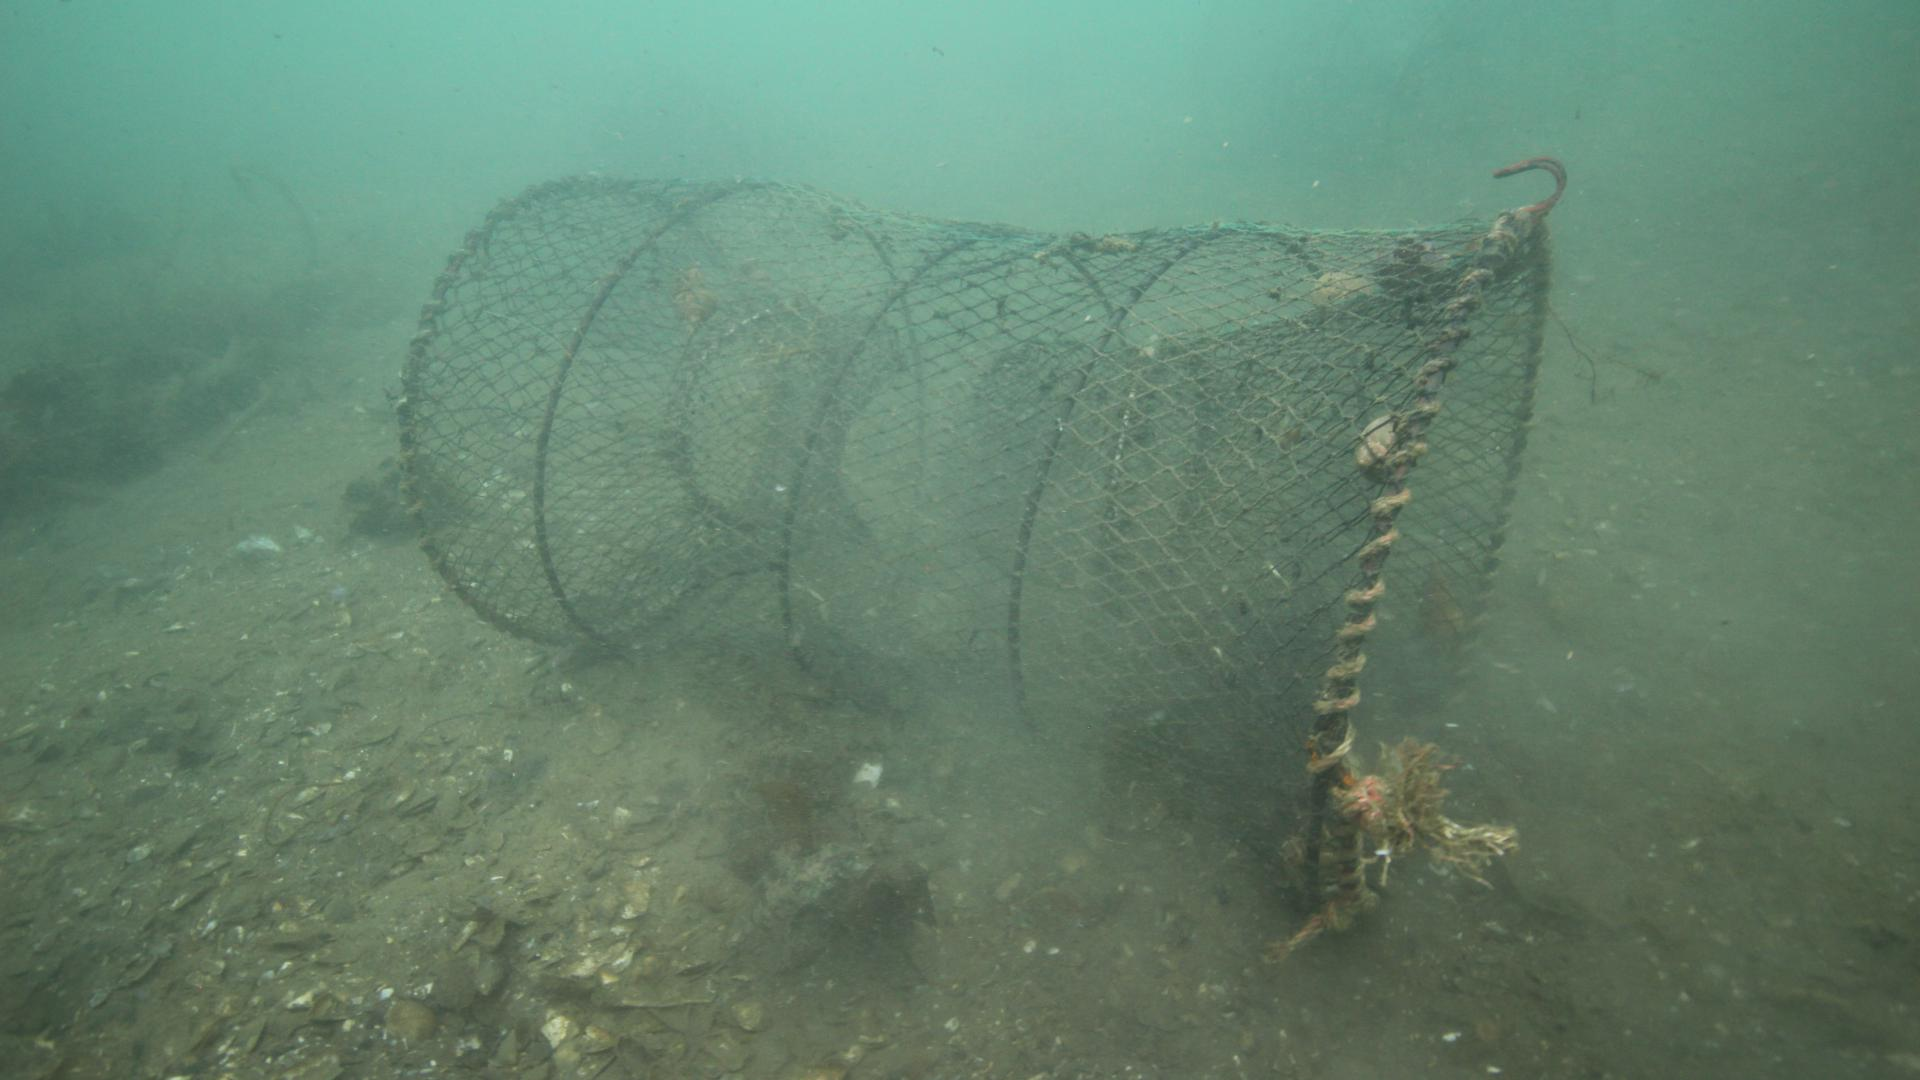spring fish trap: (392, 171, 1557, 944)
